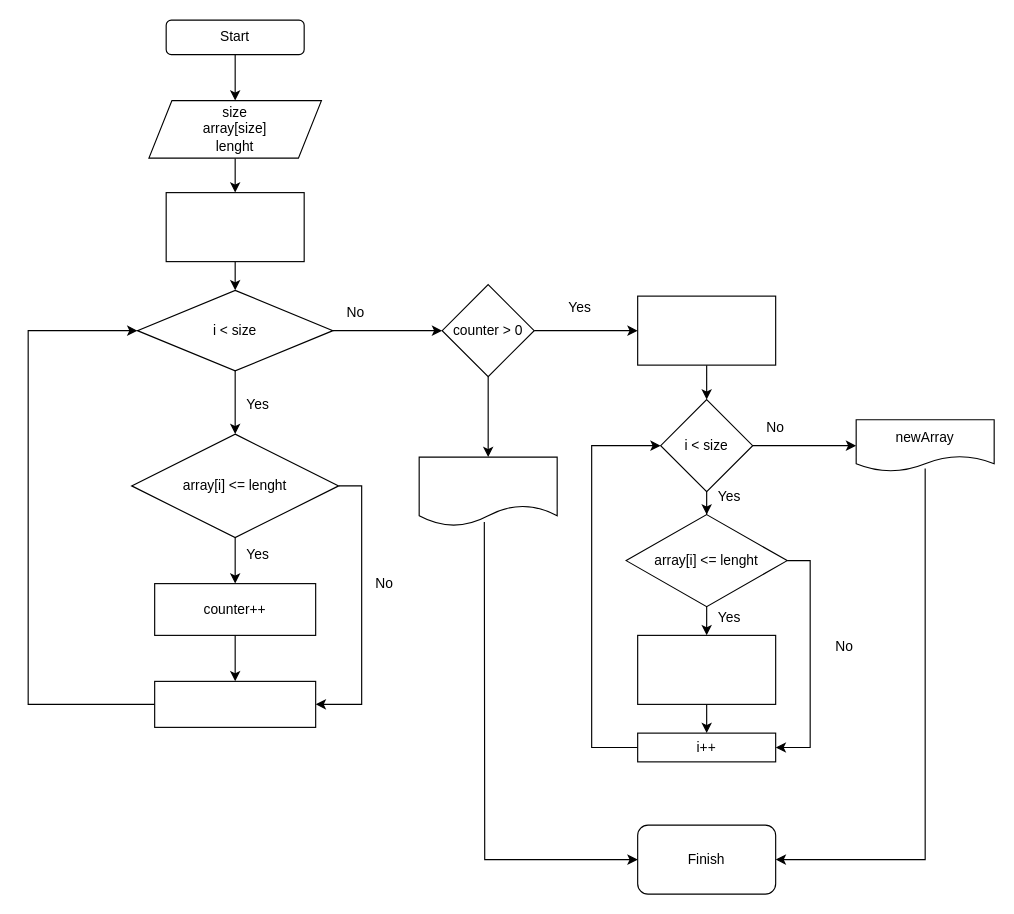
This 1014x914 diagram has some shape labels left out. Here are the shapes that lost their labels. From the top down, the centre of each, then its label:
the point at 234,226: counter = 0 index = 0
the point at 706,330: newArray[counter] index = 0 new_i = 0
the point at 487,491: newArray[0]
the point at 706,669: newArray[i] = array [i] new_i++
the point at 235,703: index++
